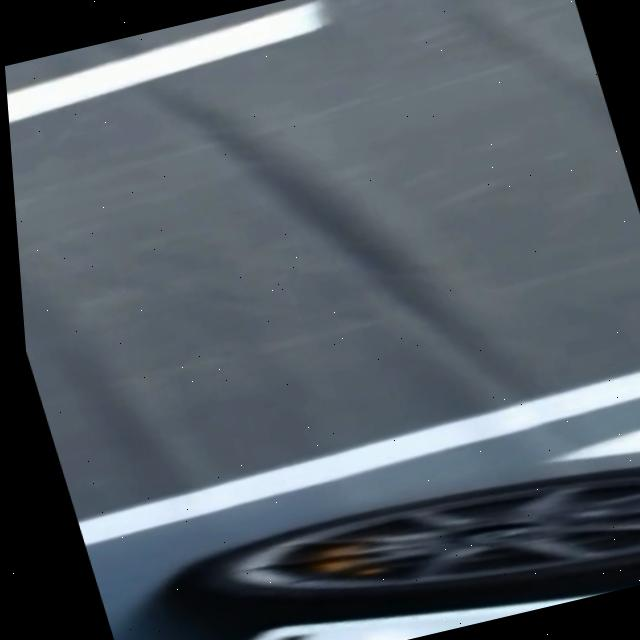center: (7, 0, 329, 123)
left: (77, 372, 640, 546)
